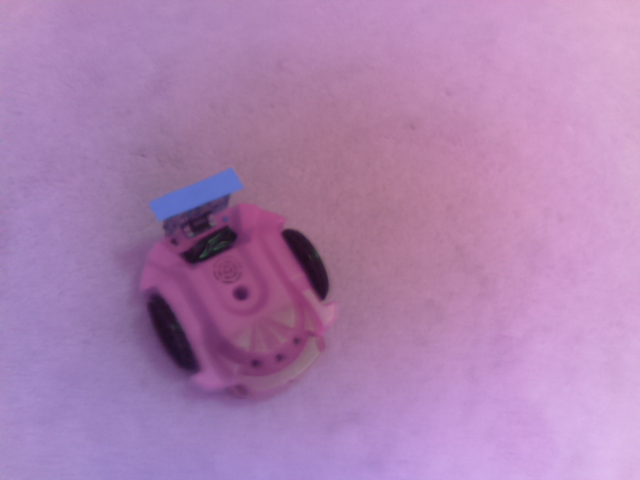board: (145, 160, 250, 232)
chassis: (135, 157, 338, 406)
